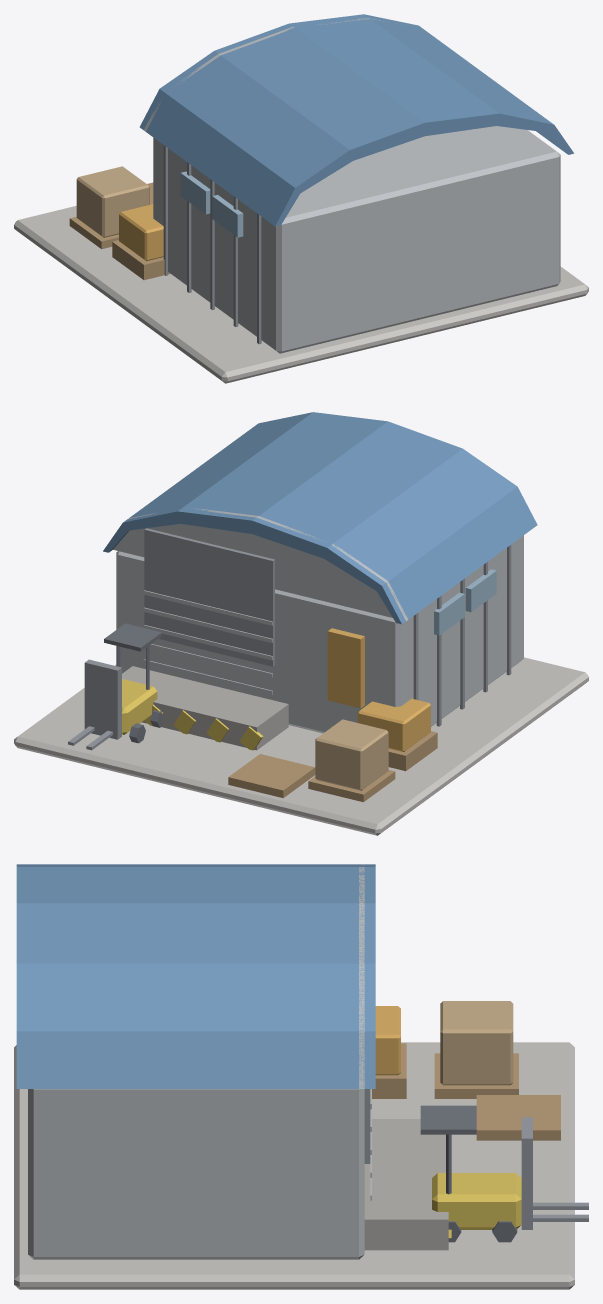
The model's file is industrial__galpao.glb.
3 views of the same model, one above another, from view 1: azimuth 30°, elevation 25°; view 2: azimuth 150°, elevation 25°; view 3: azimuth 270°, elevation 25° (orthographic). The views are drawn at different scales.
Parts seen in each view (by area): view 1: industrial__galpao; view 2: industrial__galpao; view 3: industrial__galpao.
Part boxes in pixels (bbox=[...]): industrial__galpao: bbox=[14, 14, 588, 383]; industrial__galpao: bbox=[14, 412, 588, 835]; industrial__galpao: bbox=[14, 864, 588, 1289].
Bounding box in the file's own units: 2 × 1.11 × 2.05.
